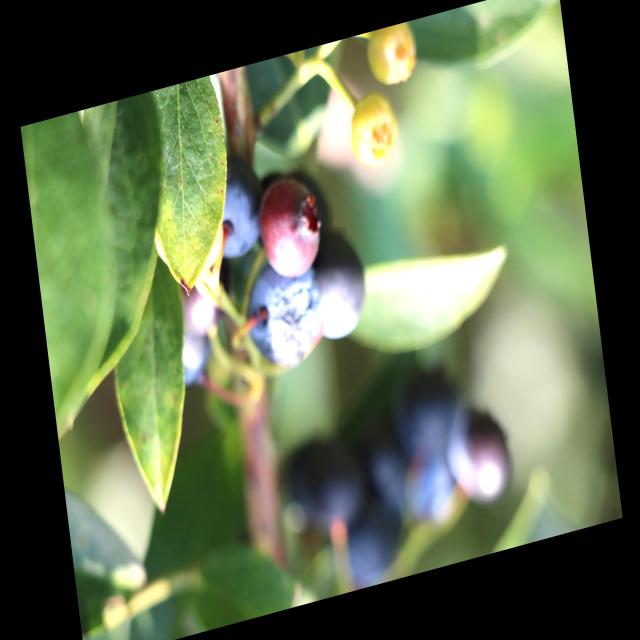blueberry: (237, 254, 329, 381), (293, 214, 377, 350), (278, 420, 373, 540), (435, 385, 520, 517), (381, 358, 468, 477), (338, 386, 417, 514), (329, 474, 411, 594), (203, 154, 271, 272), (166, 320, 218, 398)
blueberry-halfripe: (253, 171, 326, 294)
blueberry-unripe: (344, 85, 406, 176), (367, 19, 424, 93)
